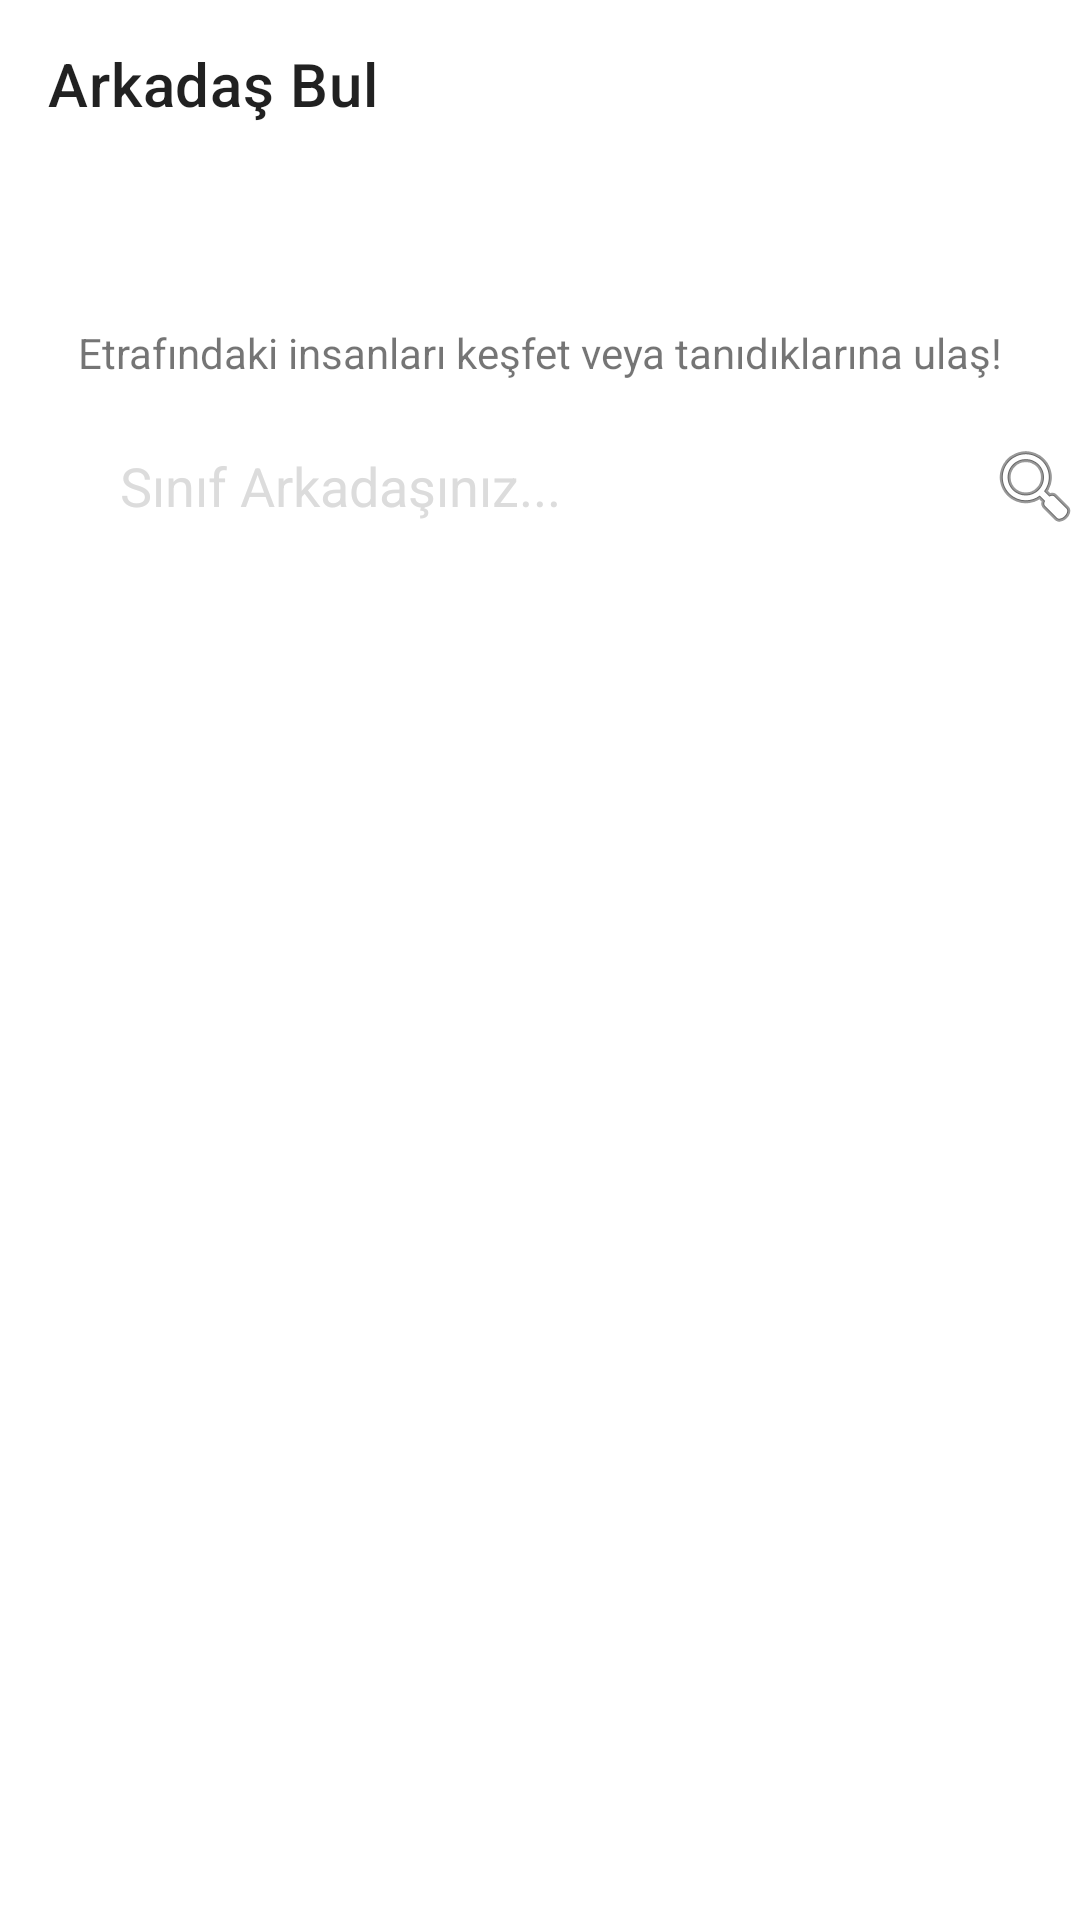

Locate icon controls on the screen. Image size 1080 x 1920, boxes as {"left": x1, "top": y1, "right": x2, "bottom": y2}.
search: {"left": 999, "top": 451, "right": 1071, "bottom": 522}
